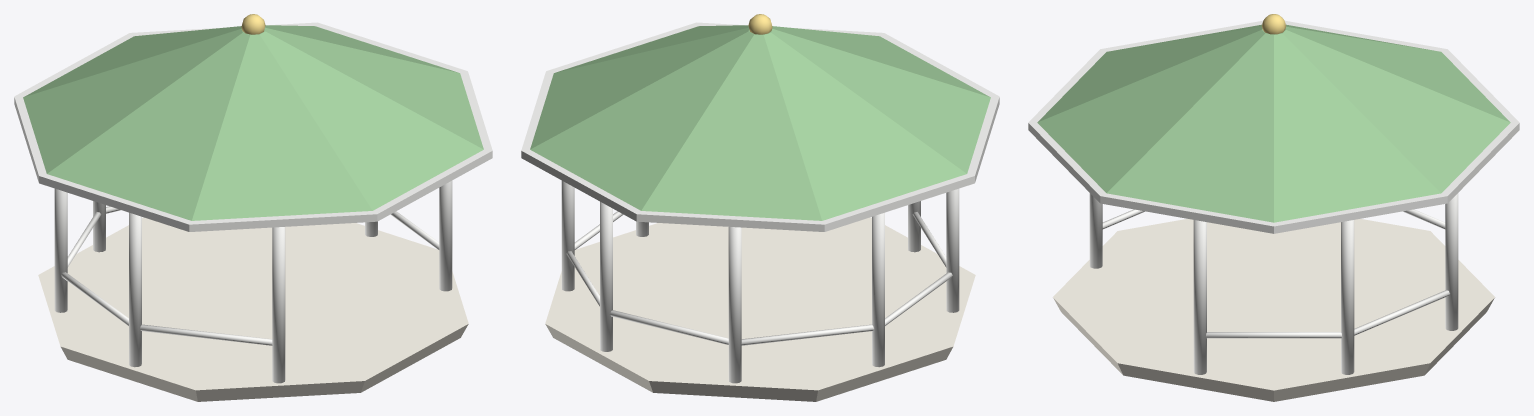
File: gazebo.glb
The picture shows the model from 3 angles, left to right: view 1: azimuth 30°, elevation 25°; view 2: azimuth 150°, elevation 25°; view 3: azimuth 270°, elevation 25°; orthographic projection.
Parts seen in each view (by area): view 1: gazebo; view 2: gazebo; view 3: gazebo.
Part boxes in pixels (bbox=[...]): gazebo: bbox=[14, 14, 492, 401]; gazebo: bbox=[521, 14, 999, 401]; gazebo: bbox=[1028, 14, 1519, 401].
Size of the model in its own units: 6 by 4 by 6.
